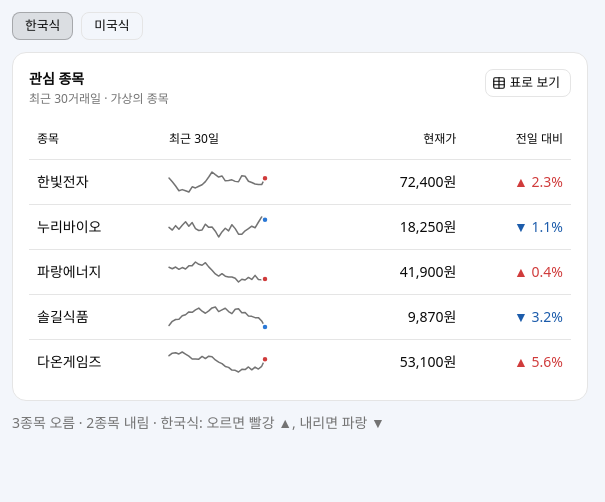
Scenario: entry › 스파크라인: has a title, a hidden summary and a table view
The image size is (605, 502).
Click the button "표로 보기". click: (528, 83)
box: [485,69,571,97]
(page scrolled)
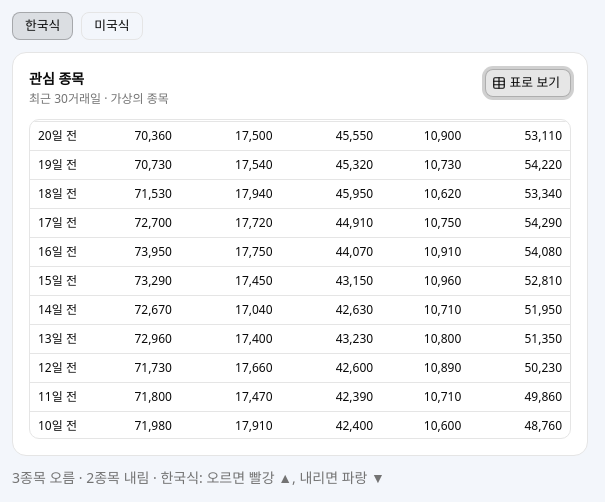
Now the button "표로 보기" is pressed, box [485,69,571,97]
